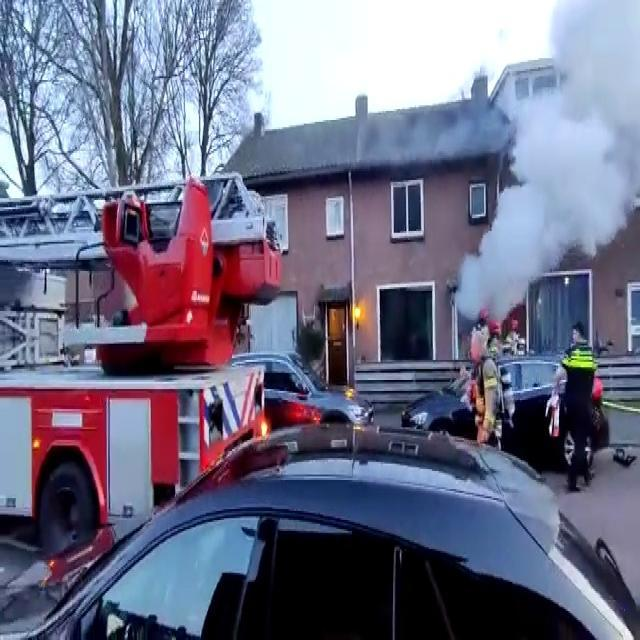Smoke: (460, 0, 640, 315)
